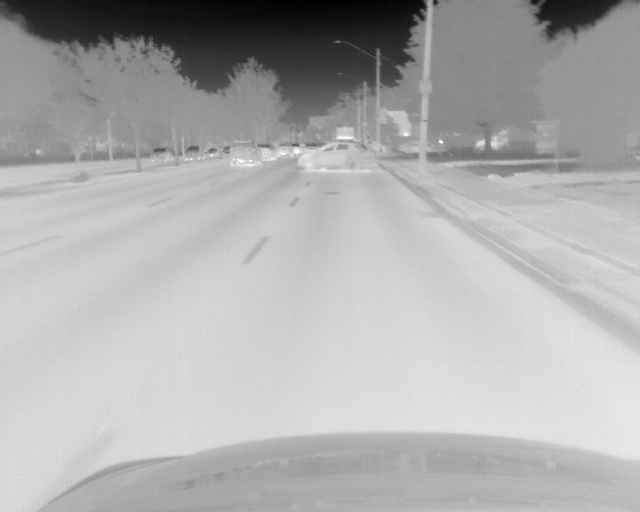car: (298, 141, 378, 173), (398, 137, 445, 158), (230, 139, 260, 168), (258, 144, 280, 162), (183, 145, 202, 164), (149, 148, 173, 163), (280, 144, 295, 160), (204, 147, 220, 160), (222, 147, 231, 158), (296, 144, 304, 156)
